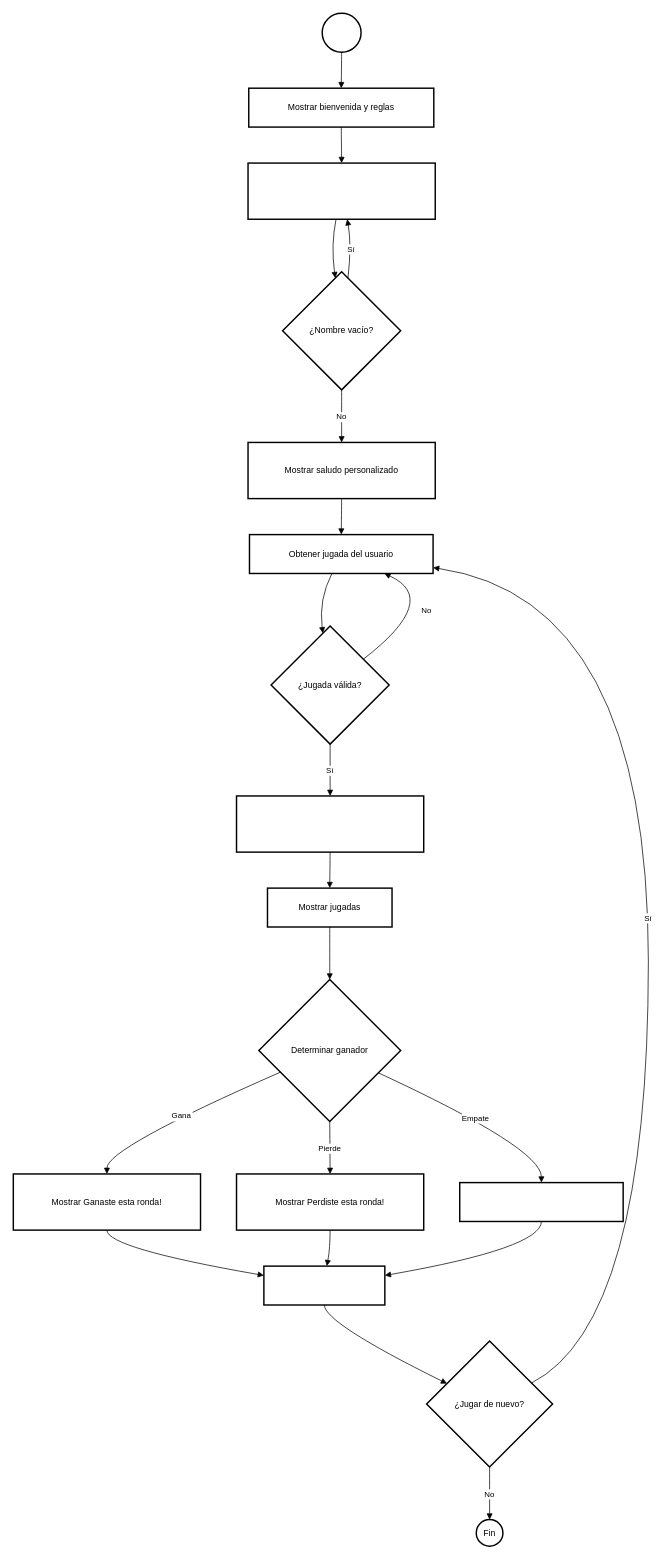
The diagram is 665 pixels wide and 1559 high, and some of its shapes have lost their labels. The shapes that lost their labels are listed below. From the top down, each one's centre as x and y in pixels, then its label:
At point 341,32: "Inicio".
At point 341,191: "Obtener nombre del usuario".
At point 329,823: "Generar jugada de la computadora".
At point 541,1202: "Mostrar ¡Es un empate!".
At point 324,1285: "Fin de la ronda".
